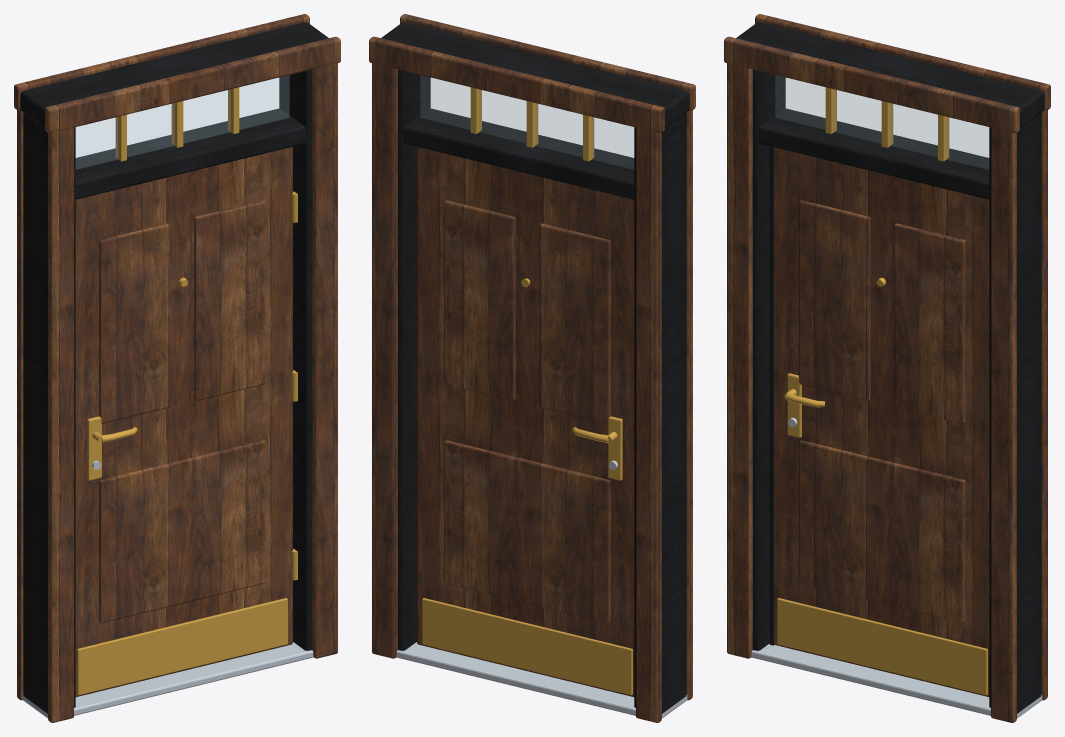
File: door_detailed.glb
3 views of the same model, side by side, from view 1: azimuth 30°, elevation 25°; view 2: azimuth 150°, elevation 25°; view 3: azimuth 330°, elevation 25° (orthographic).
Parts seen in each view (by area): view 1: Door_Leaf, Door_Frame; view 2: Door_Leaf, Door_Frame; view 3: Door_Leaf, Door_Frame.
Boxes of the visible parts, x1,y1,x2,y2 form: Door_Leaf: (75, 147, 292, 696); Door_Frame: (14, 14, 340, 722); Door_Leaf: (417, 147, 634, 696); Door_Frame: (369, 14, 695, 722); Door_Leaf: (769, 146, 989, 696); Door_Frame: (724, 14, 1050, 722).
Bounding box in the file's own units: 1.2 × 2.41 × 0.254.
5 materials, 2 textured.
